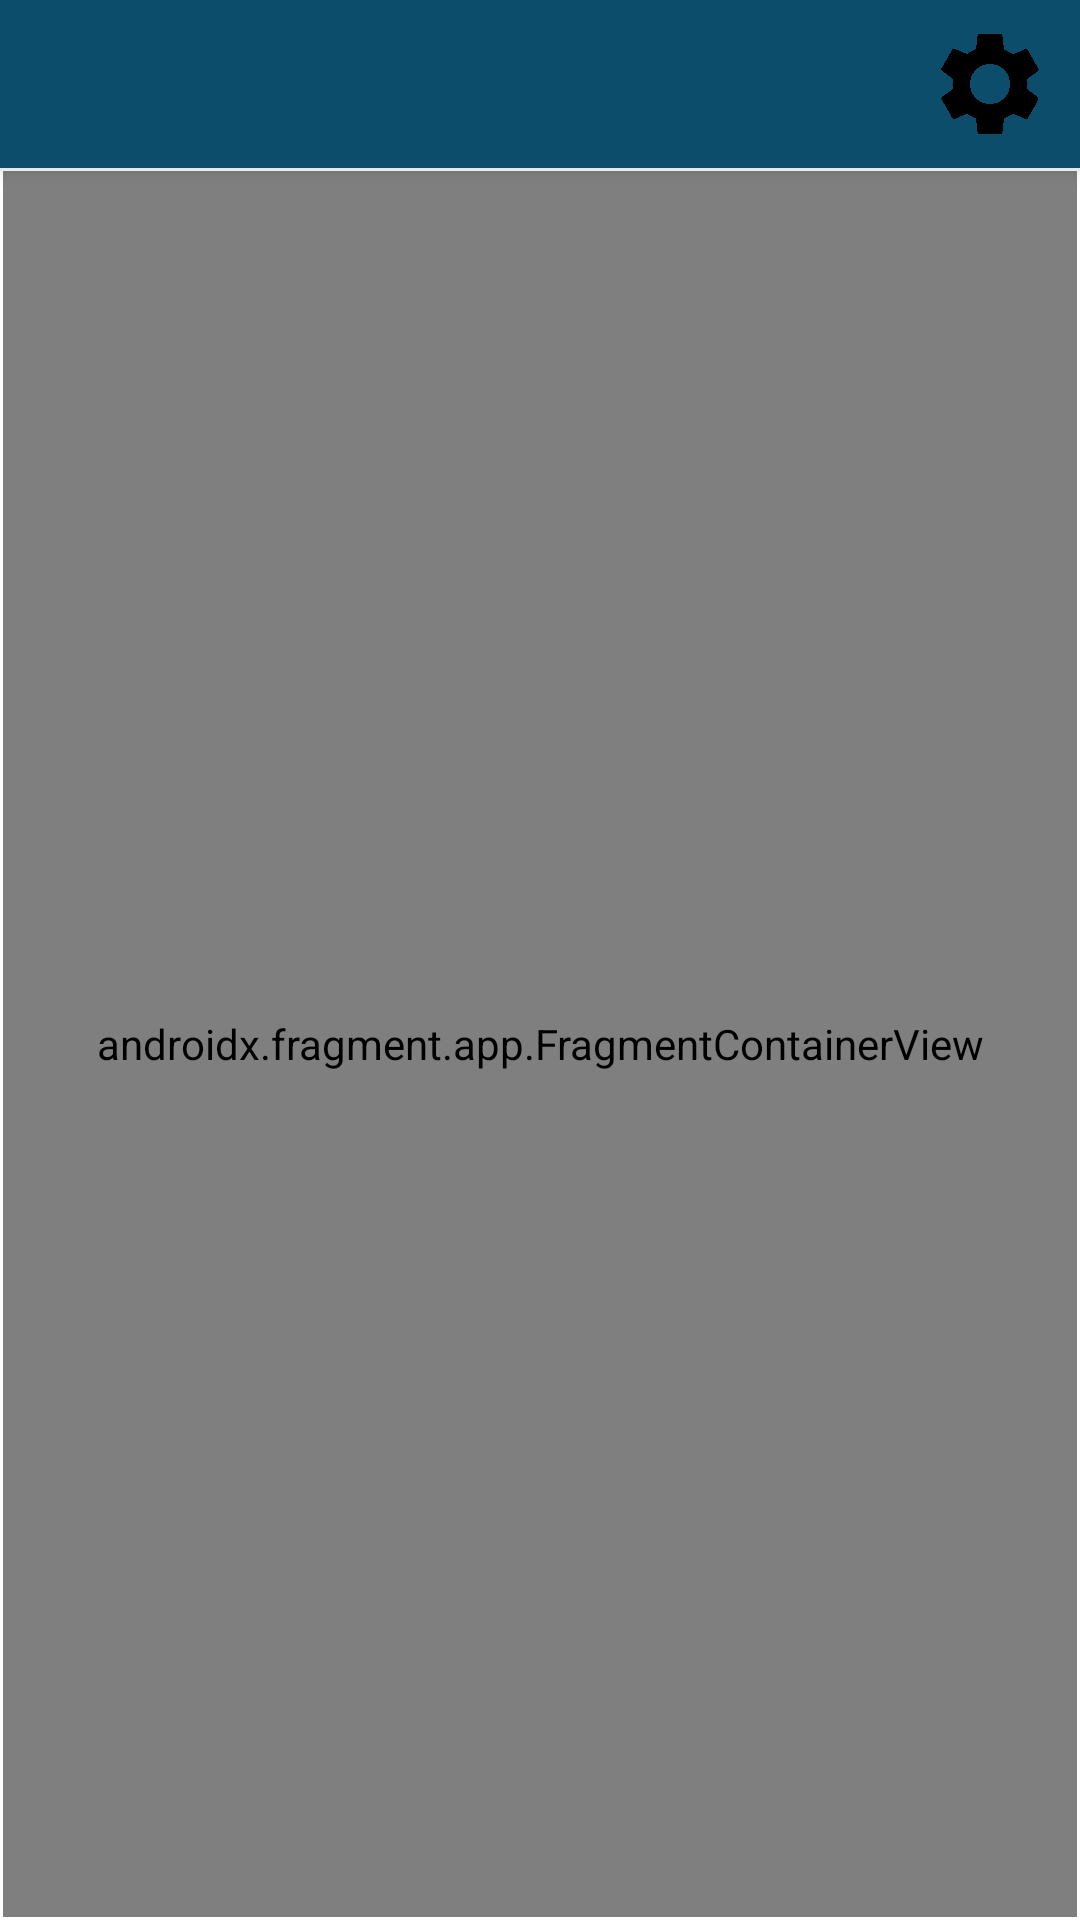

Screen size 1080 × 1920. Icon name, then its box in pixels as (x1, y1, x2, y2):
Ajustes generales: (941, 34, 1039, 134)
